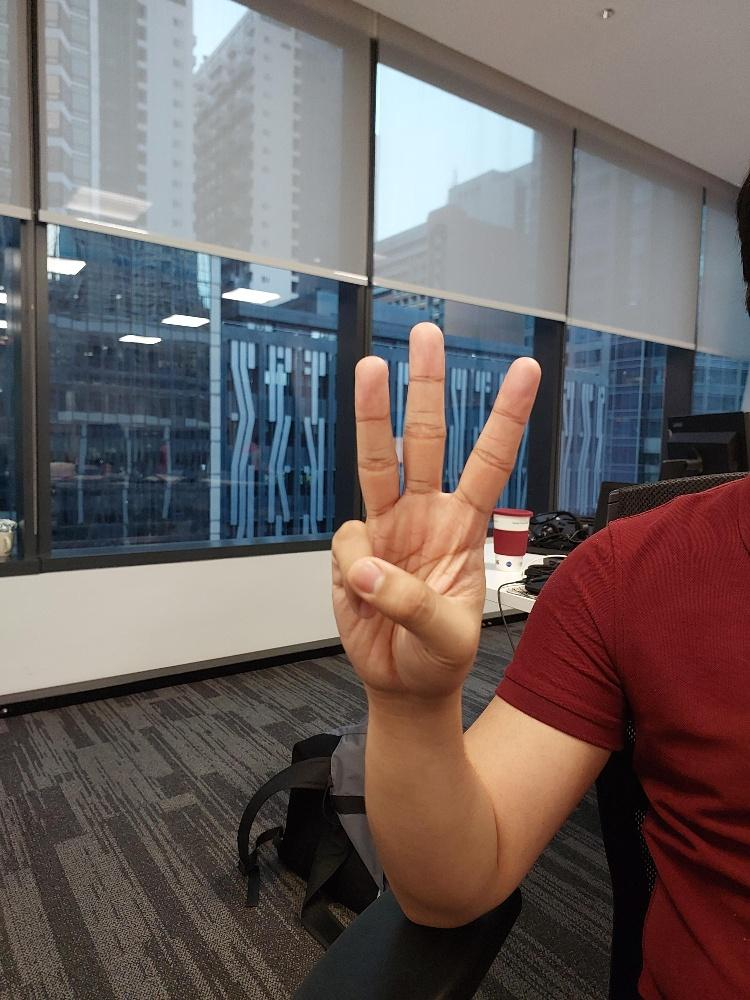w: (326, 319, 543, 694)
